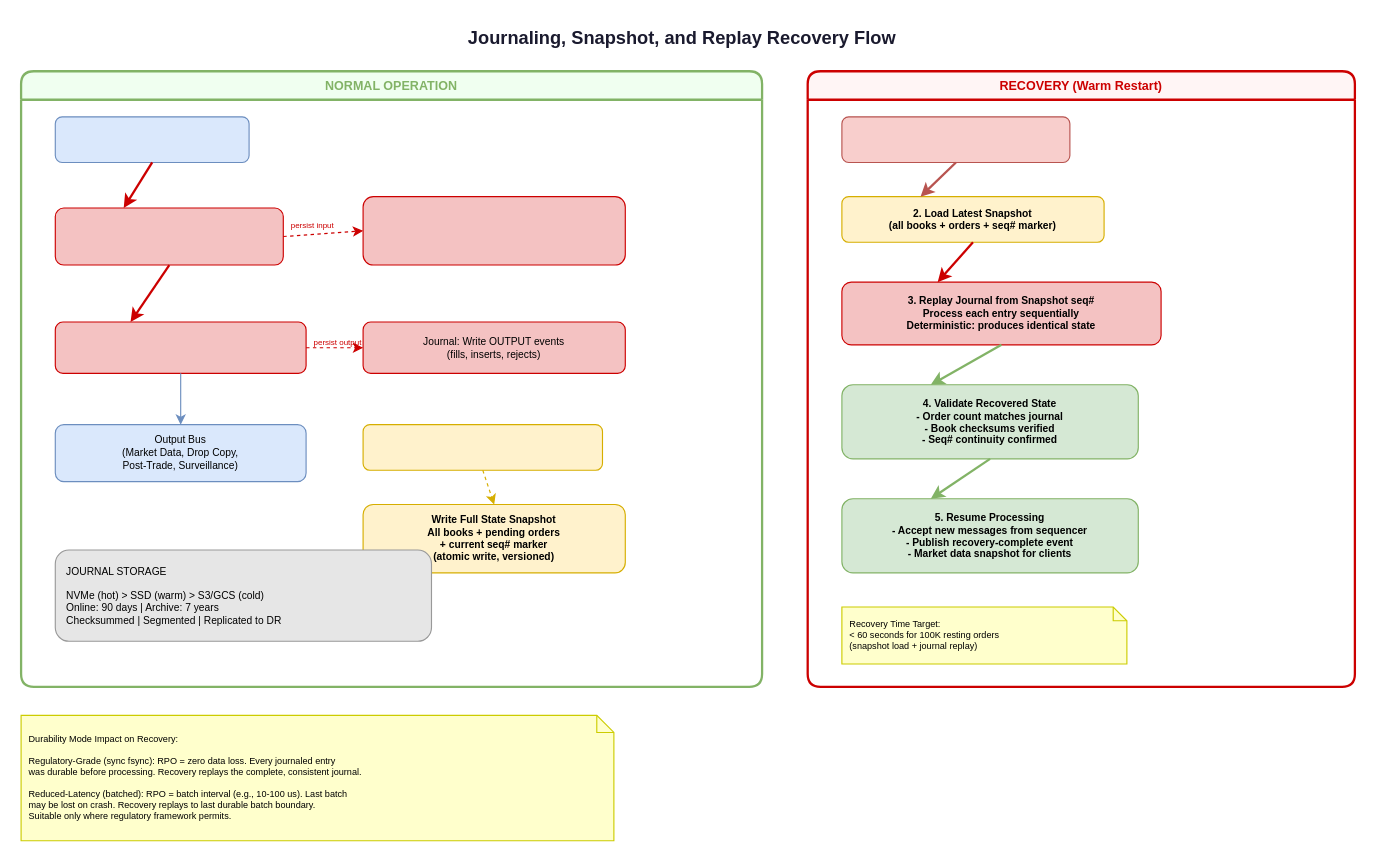
Some shapes in this 1375 by 861 pixel diagram are drawn without their labels. Each missing label, with the box of its shape:
1. Failure Detected (watchdog heartbeat miss): (841, 116, 1070, 162)
Inbound Messages (from gateways via risk): (54, 116, 249, 162)
Journal: Write INPUT event (Reg-Grade: sync fsync) (Reduced-Latency: batched): (362, 196, 625, 265)
Matching Engine Validate > Match > Book > Events: (54, 321, 306, 373)
Periodic Snapshot Trigger (every N seconds or N events): (362, 424, 602, 470)
Sequencer Assign partition-local seq# + PTP timestamp: (54, 207, 283, 265)
